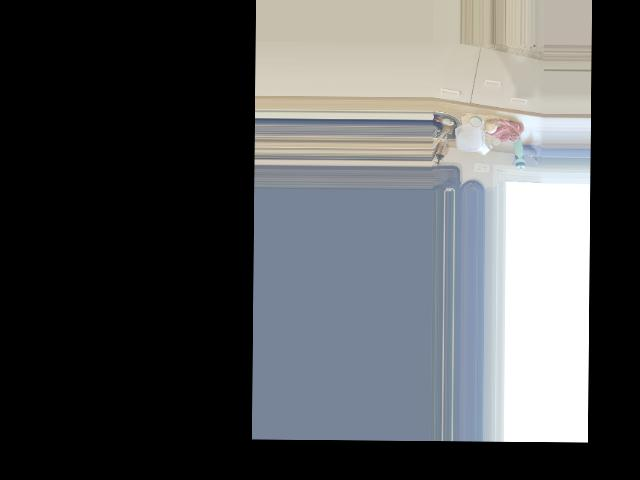onion: (485, 116, 501, 134)
